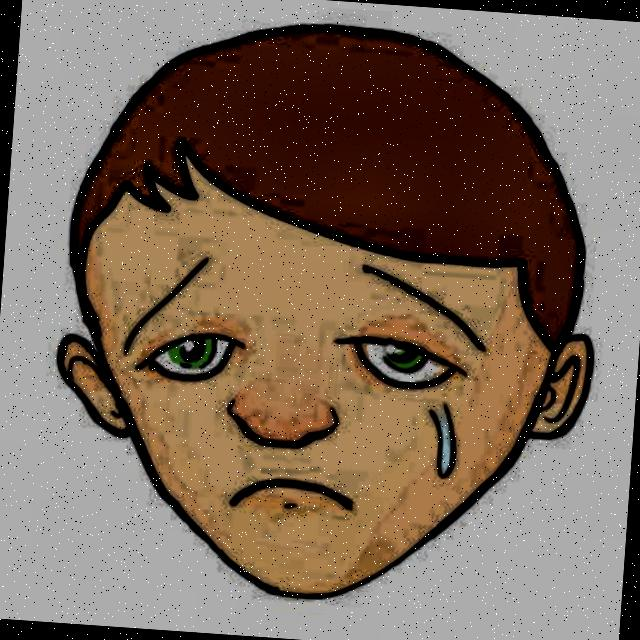sad: (8, 4, 623, 638)
